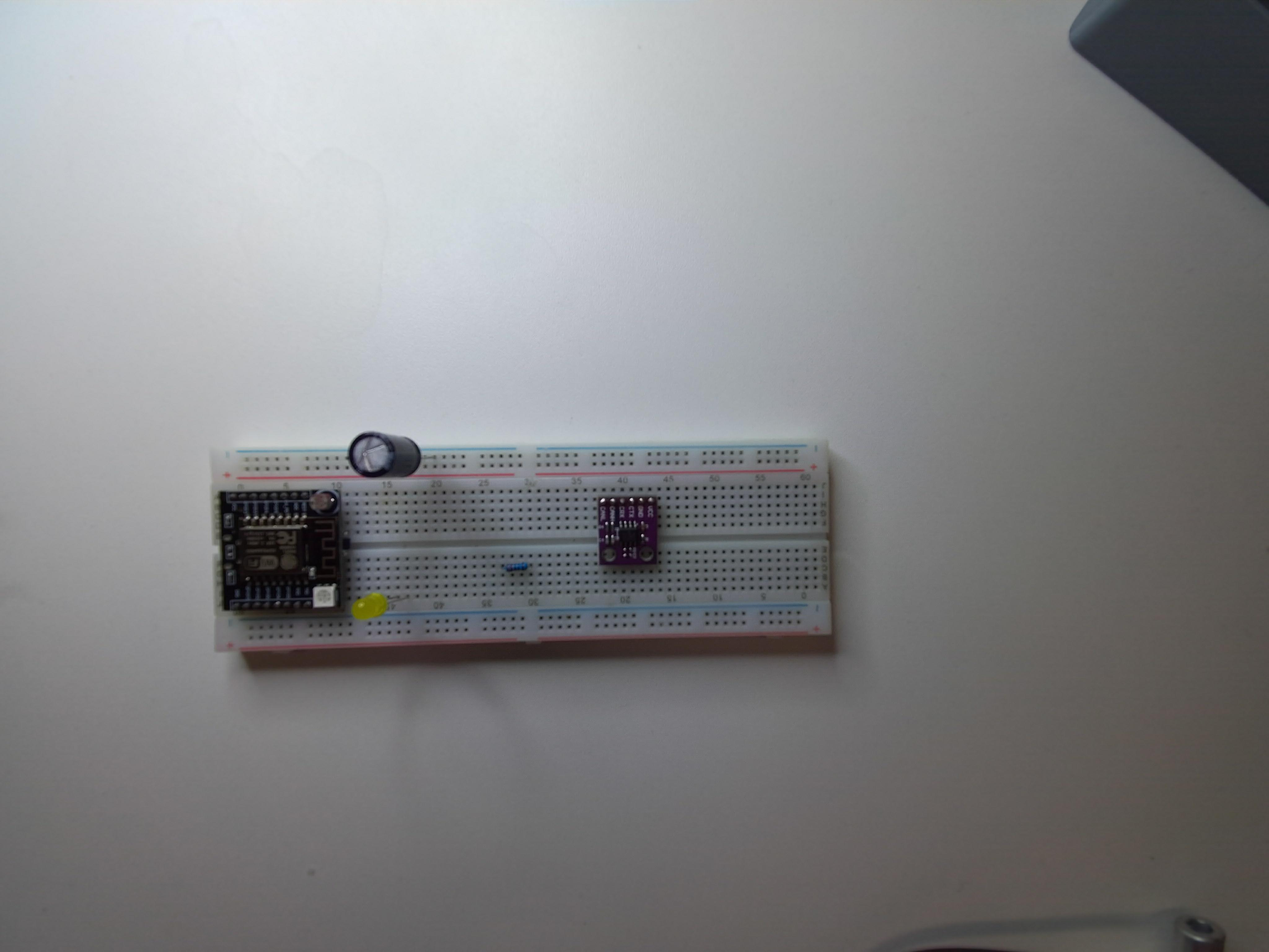base: (205, 425, 837, 650)
capacitor: (349, 430, 419, 478)
esp: (217, 487, 345, 610)
purple-board: (595, 493, 665, 571)
resistor-small: (503, 560, 530, 572)
yellow-led: (352, 591, 387, 622)
